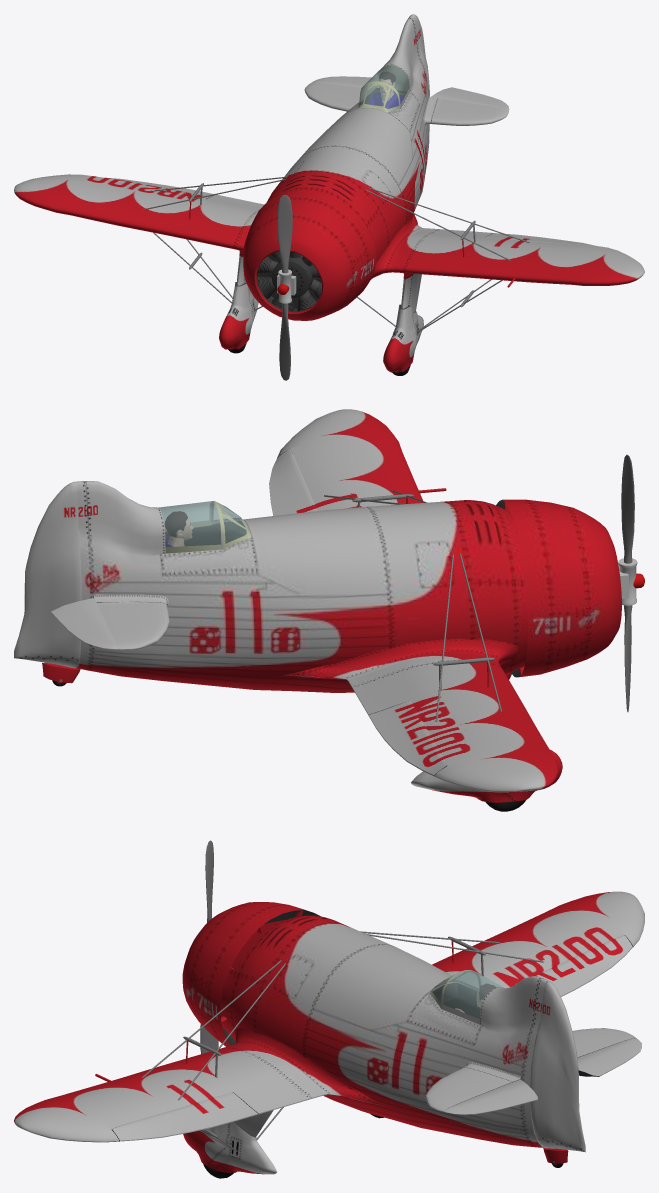
File: airplane.glb
3 views of the same model, one above another, from view 1: azimuth 30°, elevation 25°; view 2: azimuth 150°, elevation 25°; view 3: azimuth 270°, elevation 25° (orthographic). The views are drawn at different scales.
Visible parts, largest first — view 1: fuz_A-FACES.001, Line21-FACES.001, Line41-FACES.001, Line25-FACES.001, Line06-FACES.001, Line01-FACES.001, LineF02-FACES.003, fuz_A-FACES.003, fuz_A-FACES.005, Line42-FACES.001, Cylinder09-FACES.001, LineF02-FACES.001 (+5 smaller); view 2: fuz_A-FACES.001, Line41-FACES.001, Line21-FACES.001, Object02-FACES.001, fuz_A-FACES.003, Line42-FACES.001, eleron01-FACES.001, LineF02-FACES.003, fuz_A-FACES.005, eleron-FACES.001, rul_vis01-FACES.001, Line06-FACES.001 (+3 smaller); view 3: fuz_A-FACES.001, Line21-FACES.001, Line41-FACES.001, Object02-FACES.001, Line25-FACES.001, eleron-FACES.001, fuz_A-FACES.003, Line01-FACES.001, eleron01-FACES.001, LineF02-FACES.003, fuz_A-FACES.005, rul_vis-FACES.001 (+3 smaller).
Part boxes in pixels (x1,y1,x2,y2): fuz_A-FACES.001: (243, 49, 429, 320); Line21-FACES.001: (371, 214, 644, 285); Line41-FACES.001: (14, 174, 264, 250); Line25-FACES.001: (383, 273, 423, 372); Line06-FACES.001: (219, 250, 258, 349); Line01-FACES.001: (423, 95, 508, 125); LineF02-FACES.003: (359, 65, 408, 108); fuz_A-FACES.003: (360, 15, 419, 108); fuz_A-FACES.005: (360, 65, 409, 108); Line42-FACES.001: (304, 82, 365, 111); Cylinder09-FACES.001: (277, 195, 292, 273); LineF02-FACES.001: (358, 65, 409, 112); fuz_A-FACES.001: (77, 499, 621, 692); Line41-FACES.001: (284, 638, 558, 792); Line21-FACES.001: (277, 409, 422, 510); Object02-FACES.001: (14, 481, 81, 668); fuz_A-FACES.003: (75, 481, 241, 554); Line42-FACES.001: (93, 594, 169, 649); eleron01-FACES.001: (368, 700, 447, 775); LineF02-FACES.003: (159, 501, 246, 546); fuz_A-FACES.005: (159, 501, 246, 546); eleron-FACES.001: (269, 449, 317, 515); rul_vis01-FACES.001: (51, 598, 117, 649); Line06-FACES.001: (411, 749, 562, 802); fuz_A-FACES.001: (182, 902, 544, 1147); Line21-FACES.001: (14, 1028, 383, 1142); Line41-FACES.001: (432, 891, 644, 988); Object02-FACES.001: (530, 981, 585, 1152); Line25-FACES.001: (183, 1110, 276, 1174); eleron-FACES.001: (112, 1092, 258, 1141); fuz_A-FACES.003: (434, 971, 548, 1030); Line01-FACES.001: (425, 1062, 521, 1111); eleron01-FACES.001: (507, 935, 632, 996); LineF02-FACES.003: (432, 970, 503, 1017); fuz_A-FACES.005: (433, 971, 503, 1018); rul_vis-FACES.001: (443, 1079, 537, 1114).
Bounding box in the file's own units: 1.44 × 0.7337 × 1.48.
Materials: 29 (16 with a texture image).
